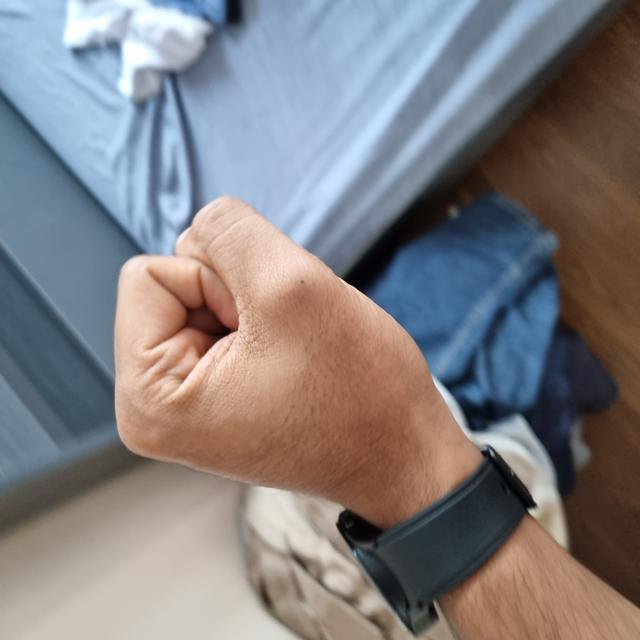Rock: (120, 111, 443, 459)
